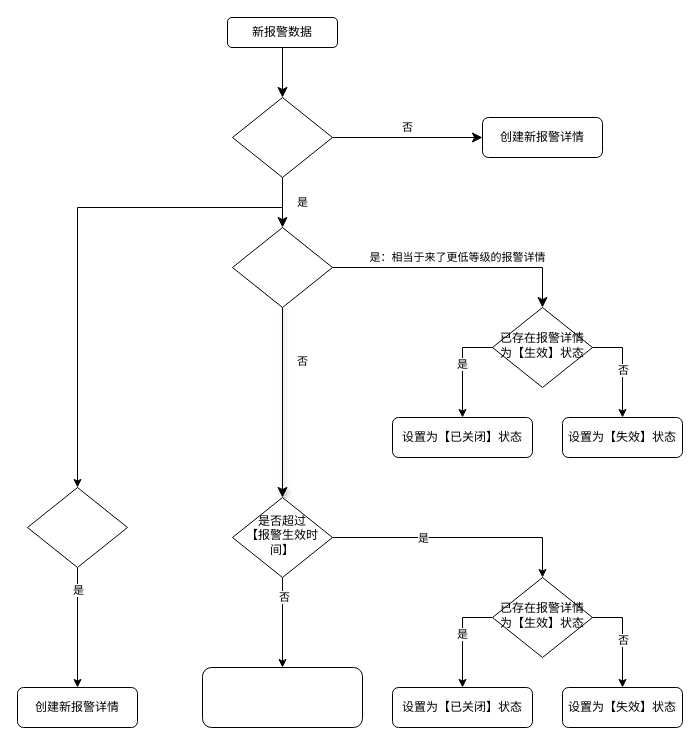
Image size: 700x745. Some labels were removed from this diagram. Each missing label, with the centre of its shape:
"不存在当前等级未生效报警或者已超时" goes at point 77,527.
"已存在的报警报警详情等级 大于 新报警数据等级" goes at point 282,267.
"是否存在当前【测点-测量类型】报警详情" goes at point 282,137.
"设置为【生效】状态 并将报警添加到待推送报警邮件列表" goes at point 282,697.
